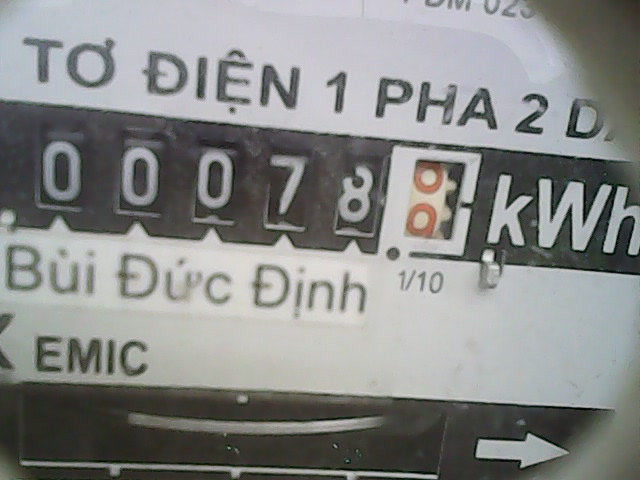phy_plate: (26, 100, 488, 269)
